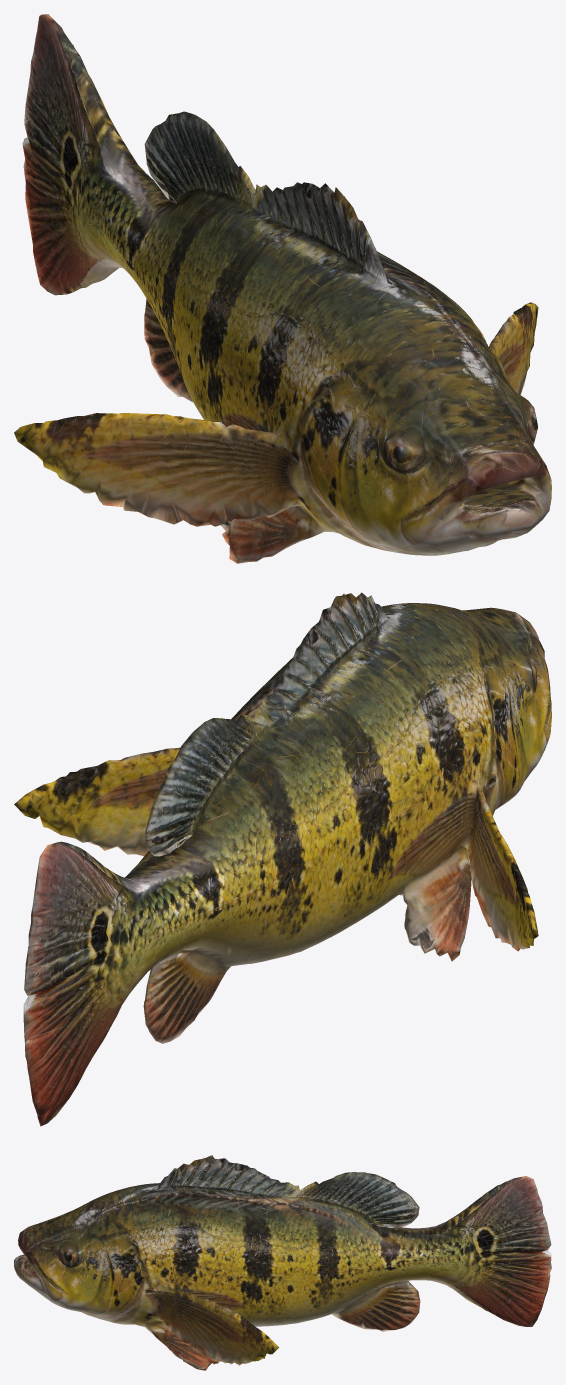
Rendered from fish_peacock.glb.
3 renders of one model, top to bottom at view 1: azimuth 30°, elevation 25°; view 2: azimuth 150°, elevation 25°; view 3: azimuth 270°, elevation 25°, orthographic. The views are drawn at different scales.
Visible parts, largest first — view 1: geometry_0; view 2: geometry_0; view 3: geometry_0.
Boxes of the visible parts, <box> form: geometry_0: <box>14,14,551,563</box>; geometry_0: <box>14,592,551,1126</box>; geometry_0: <box>14,1155,551,1370</box>.
Size of the model in its own units: 1.2 by 0.7489 by 1.96.
1 material, 1 textured.
